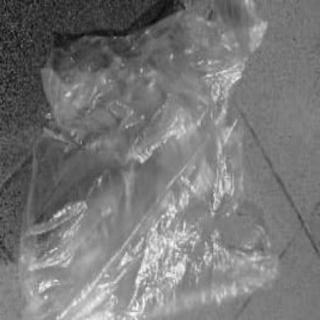objects: (31, 1, 272, 320)
